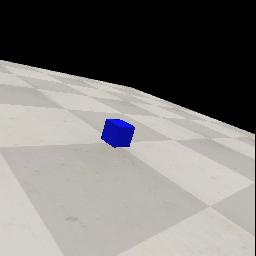box: (101, 119, 135, 148)
